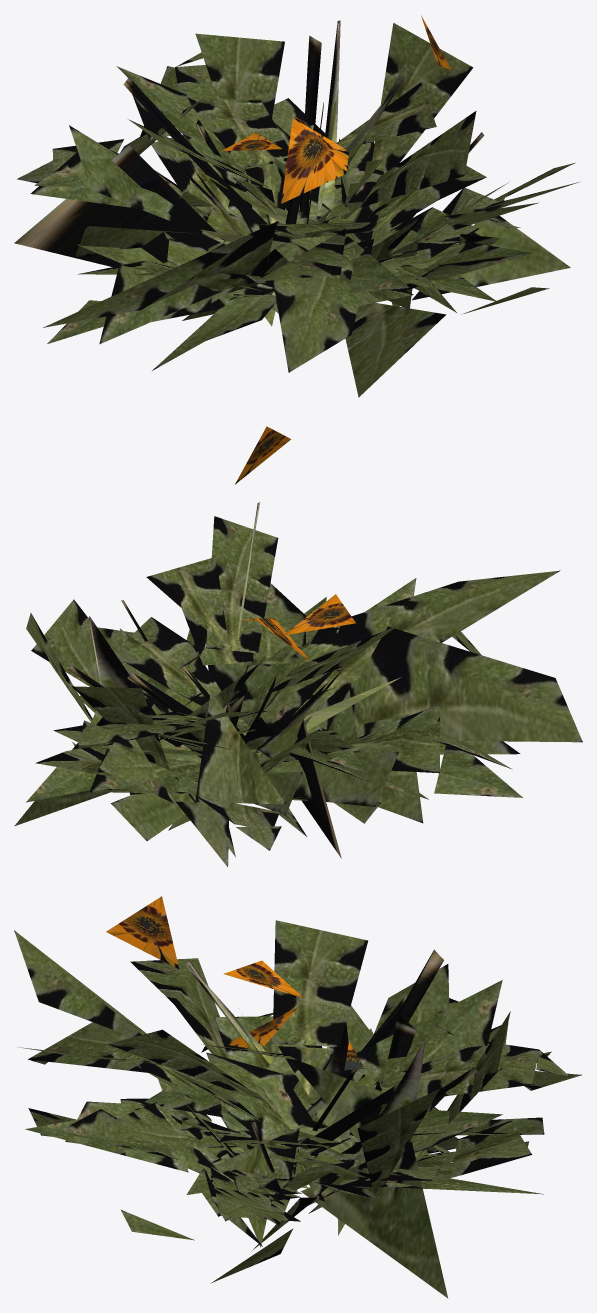
The model's file is ph_flower_gazania.glb.
3 views of the same model, one above another, from view 1: azimuth 30°, elevation 25°; view 2: azimuth 150°, elevation 25°; view 3: azimuth 270°, elevation 25° (orthographic). The views are drawn at different scales.
Visible parts, largest first — view 1: v0, v2, v1, v3, v4, v5, v6; view 2: v0, v2, v1, v3, v4, v5, v6; view 3: v0, v1, v2, v3, v4, v5, v6.
Boxes of the visible parts, box(x1,y1,x2,y2) form: v0: box(43, 15, 575, 397); v2: box(14, 66, 580, 343); v1: box(99, 36, 538, 372); v3: box(30, 119, 499, 257); v4: box(152, 116, 504, 370); v5: box(34, 125, 520, 306); v6: box(152, 181, 549, 321); v0: box(14, 426, 582, 840); v2: box(96, 570, 560, 858); v1: box(53, 583, 512, 823); v3: box(91, 663, 398, 866); v4: box(89, 627, 520, 836); v5: box(72, 626, 384, 857); v6: box(26, 652, 428, 802); v0: box(25, 896, 532, 1298); v1: box(28, 960, 569, 1198); v2: box(14, 930, 581, 1221); v3: box(141, 998, 458, 1246); v4: box(65, 1042, 544, 1208); v5: box(134, 964, 458, 1250); v6: box(120, 1098, 543, 1240).
Bounding box in the file's own units: 0.3365 × 0.2063 × 0.3089.
Materials: 1 (1 with a texture image).
